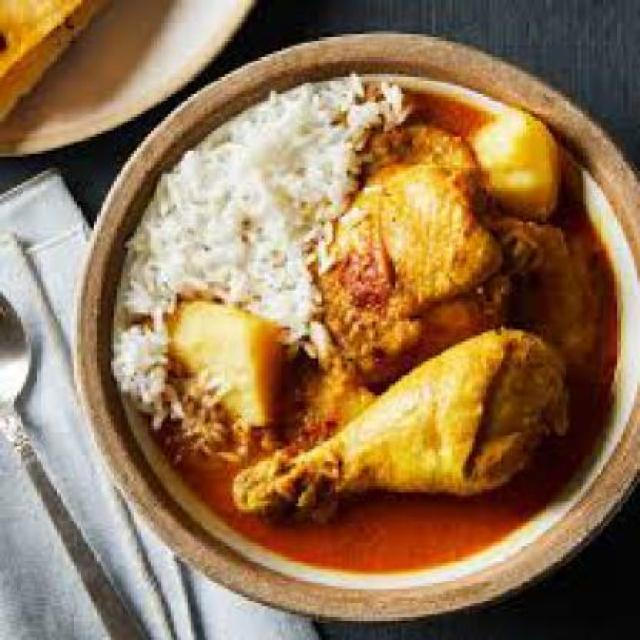CHICKEN CURRY: (170, 90, 621, 582)
